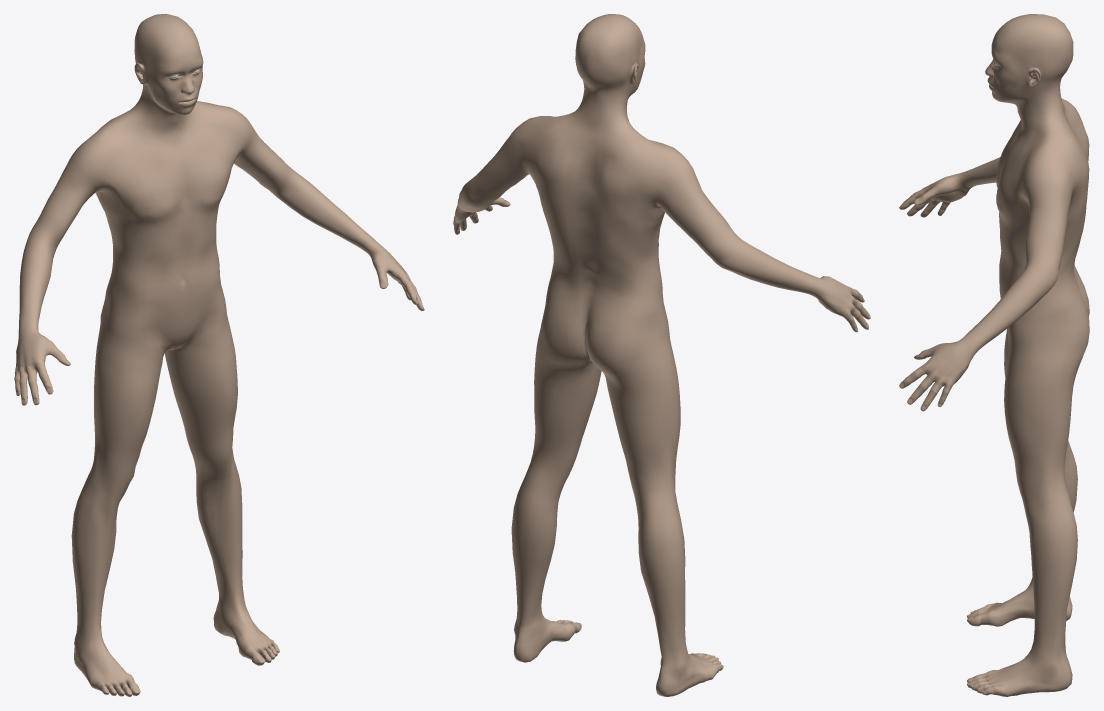
Rendered from base_human.glb.
3 views of the same model, side by side, from view 1: azimuth 30°, elevation 25°; view 2: azimuth 150°, elevation 25°; view 3: azimuth 270°, elevation 25° (orthographic).
Visible parts, largest first — view 1: base_humanMesh; view 2: base_humanMesh; view 3: base_humanMesh.
Boxes of the visible parts, <box> form: base_humanMesh: <box>14,14,424,696</box>; base_humanMesh: <box>453,14,870,696</box>; base_humanMesh: <box>899,14,1089,696</box>.
Size of the model in its own units: 1.29 by 1.97 by 0.5339.
